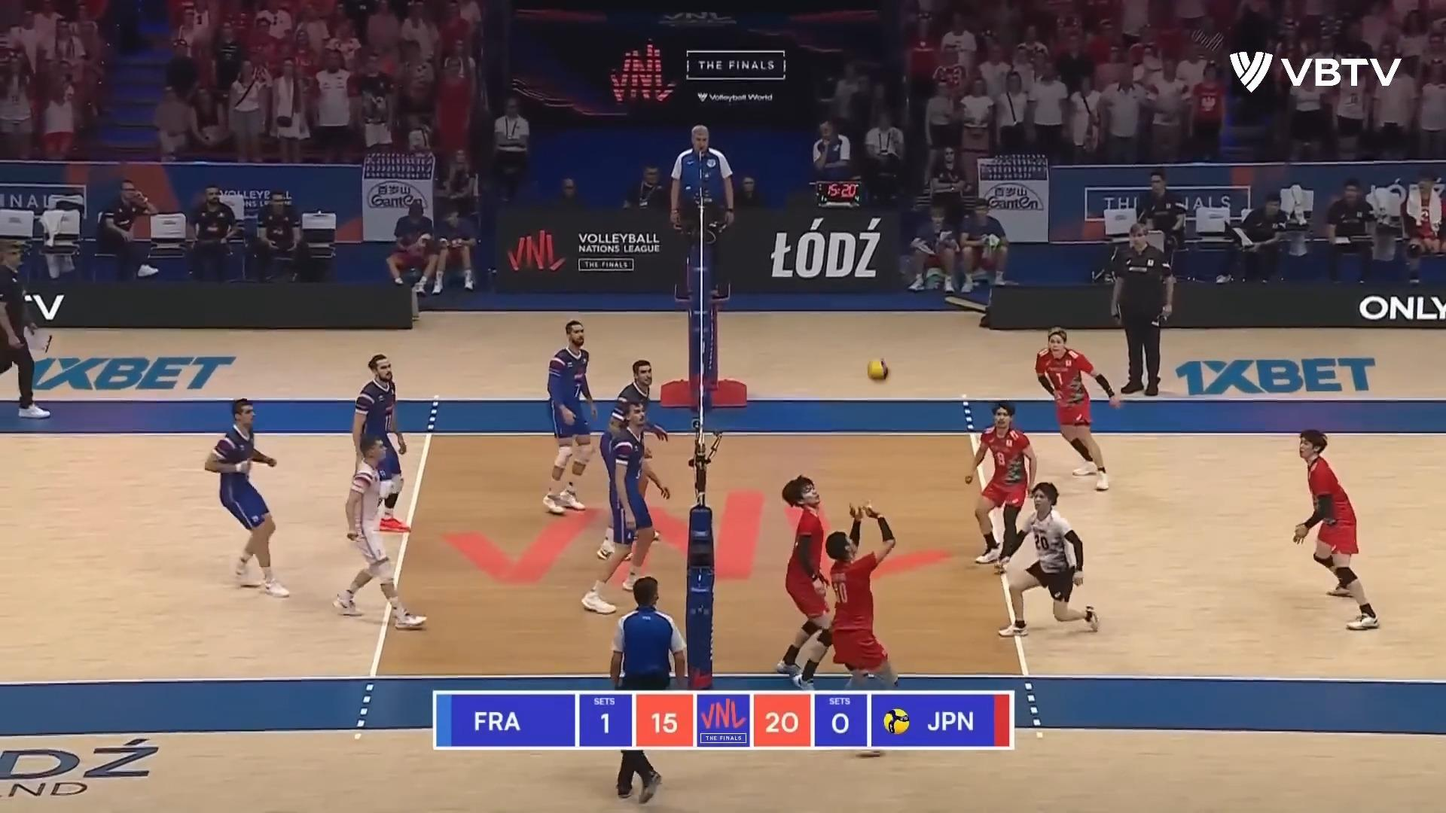ball: (866, 357, 892, 383)
